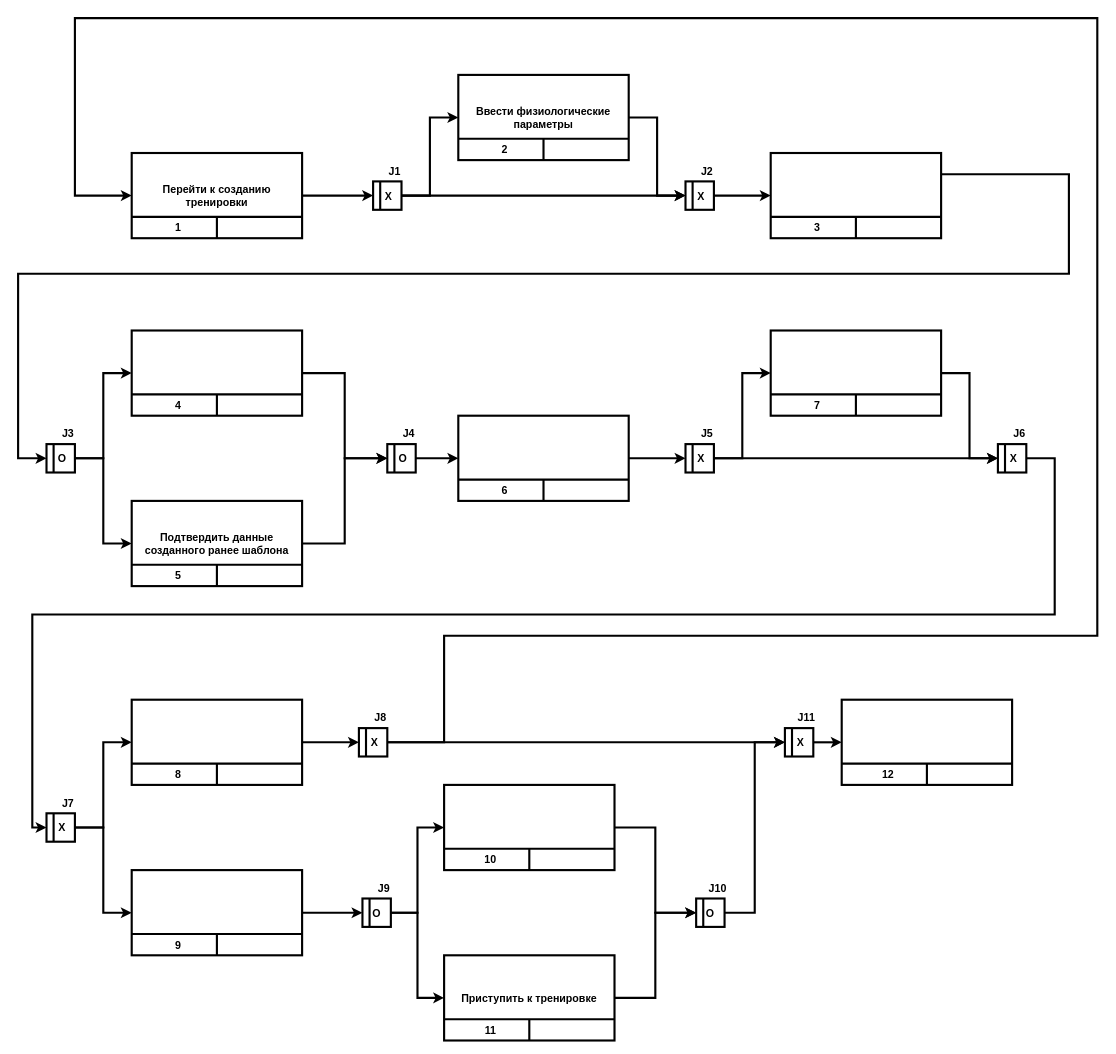
Some shapes in this 1116 by 1054 pixel diagram are drawn without their labels. Here are the shapes that lost their labels. From the top down, the box of each, then its label:
(769, 152, 942, 239): Выбрать вариант тренировки
(130, 329, 303, 416): Внести данные о тренировке
(769, 329, 942, 416): Редактировать тренировку
(457, 414, 629, 502): Генерация тренировки
(130, 698, 303, 786): Удалить созданную тренировку
(840, 698, 1013, 786): Выйти из приложения
(443, 783, 615, 871): Добавить тренировку в календарь
(130, 869, 303, 956): Подтвердить созданную тренировку
